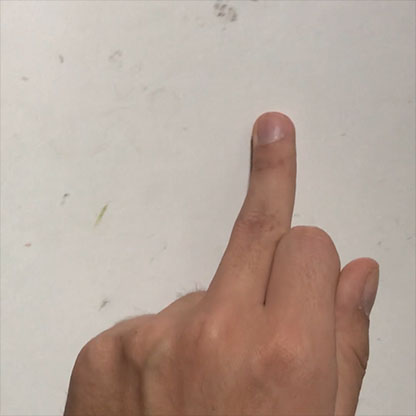fingertip: (241, 100, 303, 156)
